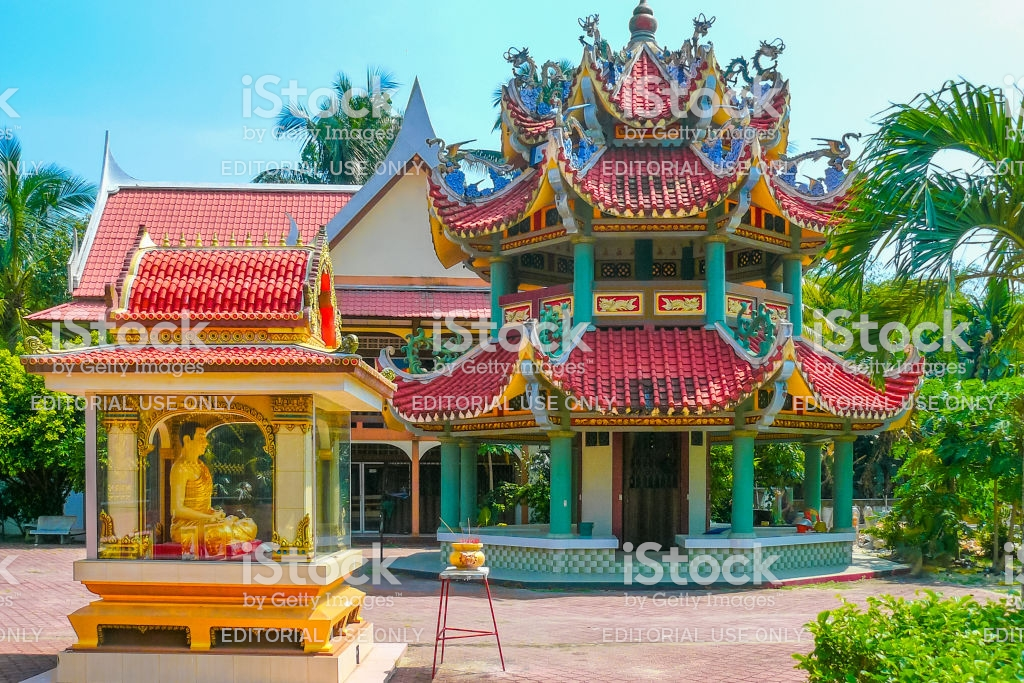Buddhist Temple: (432, 17, 861, 553)
